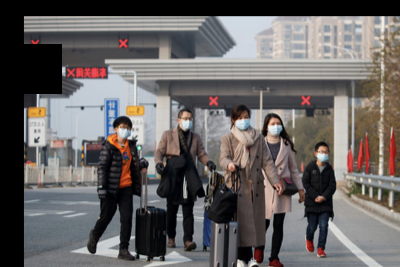with_mask: (265, 121, 283, 136), (233, 114, 249, 130), (314, 149, 329, 164), (179, 115, 193, 131), (116, 124, 129, 139)
